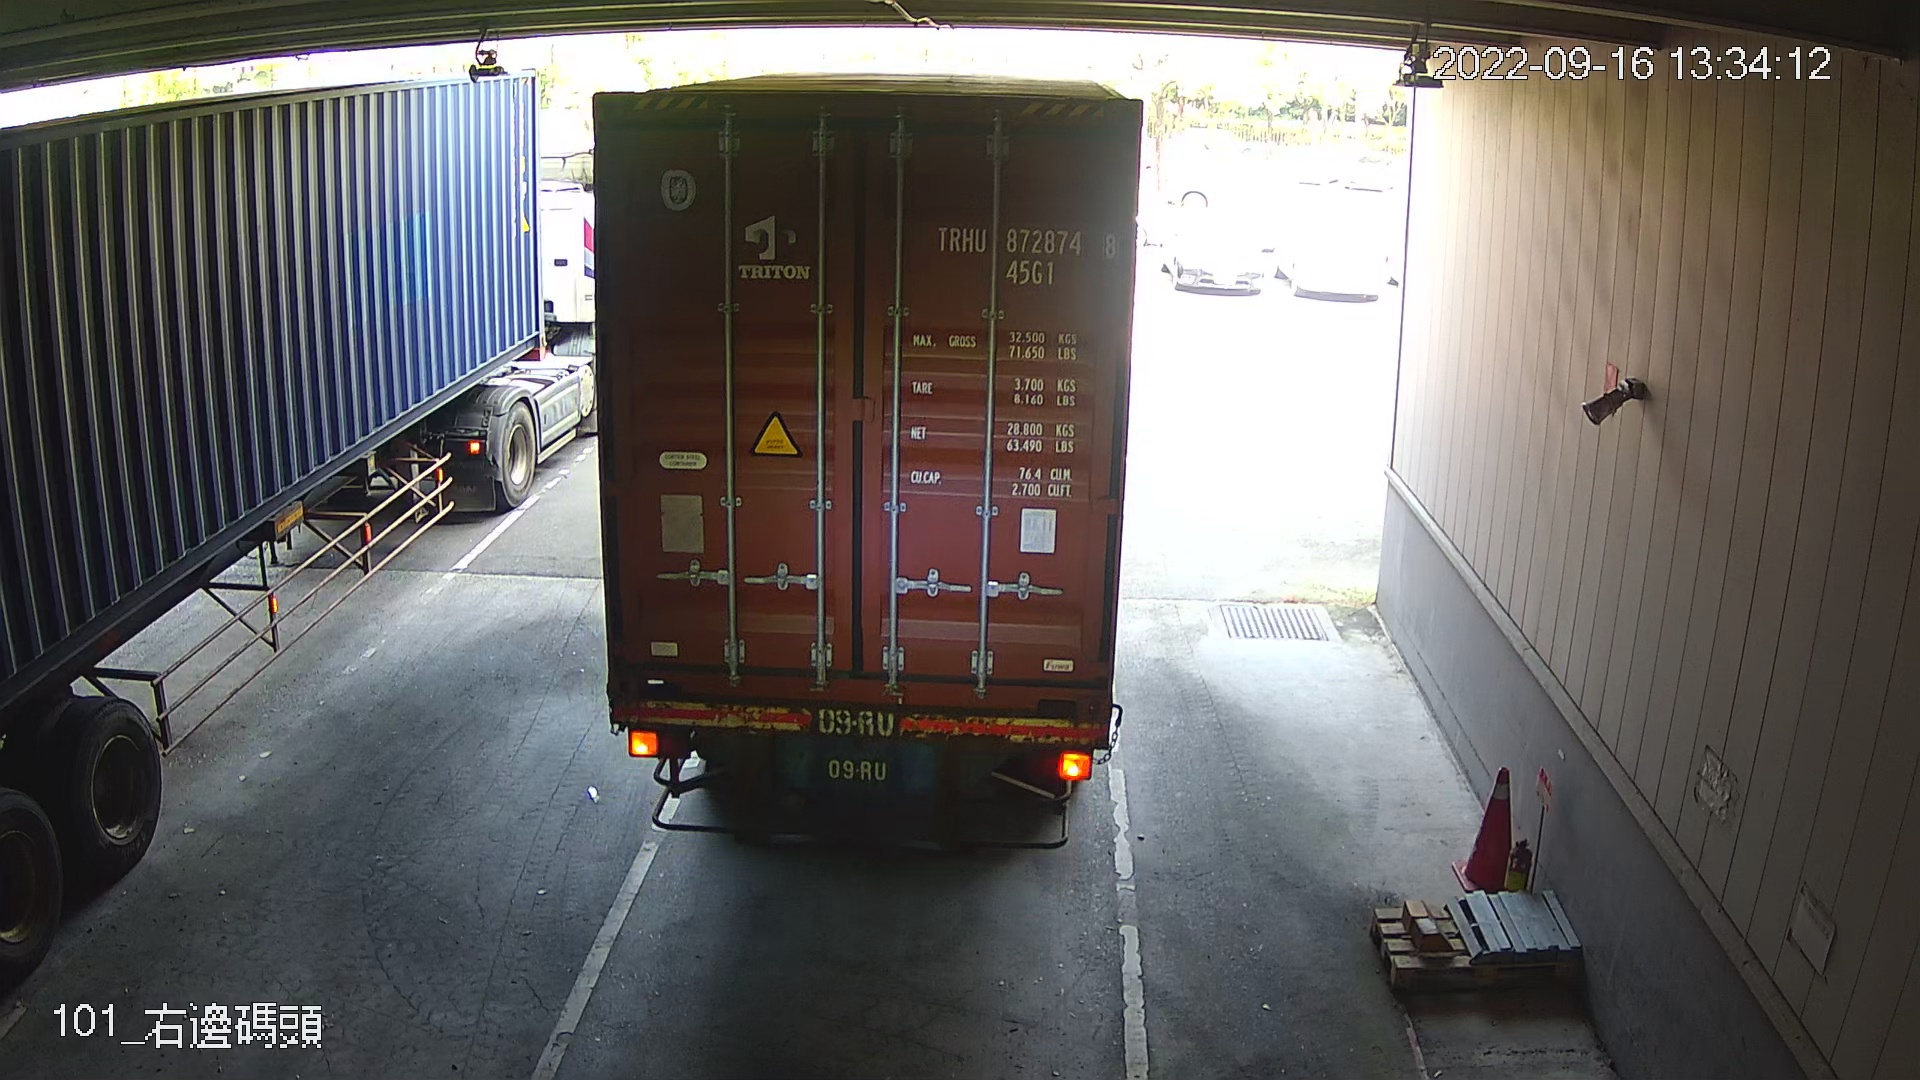container: (931, 218, 1122, 299)
